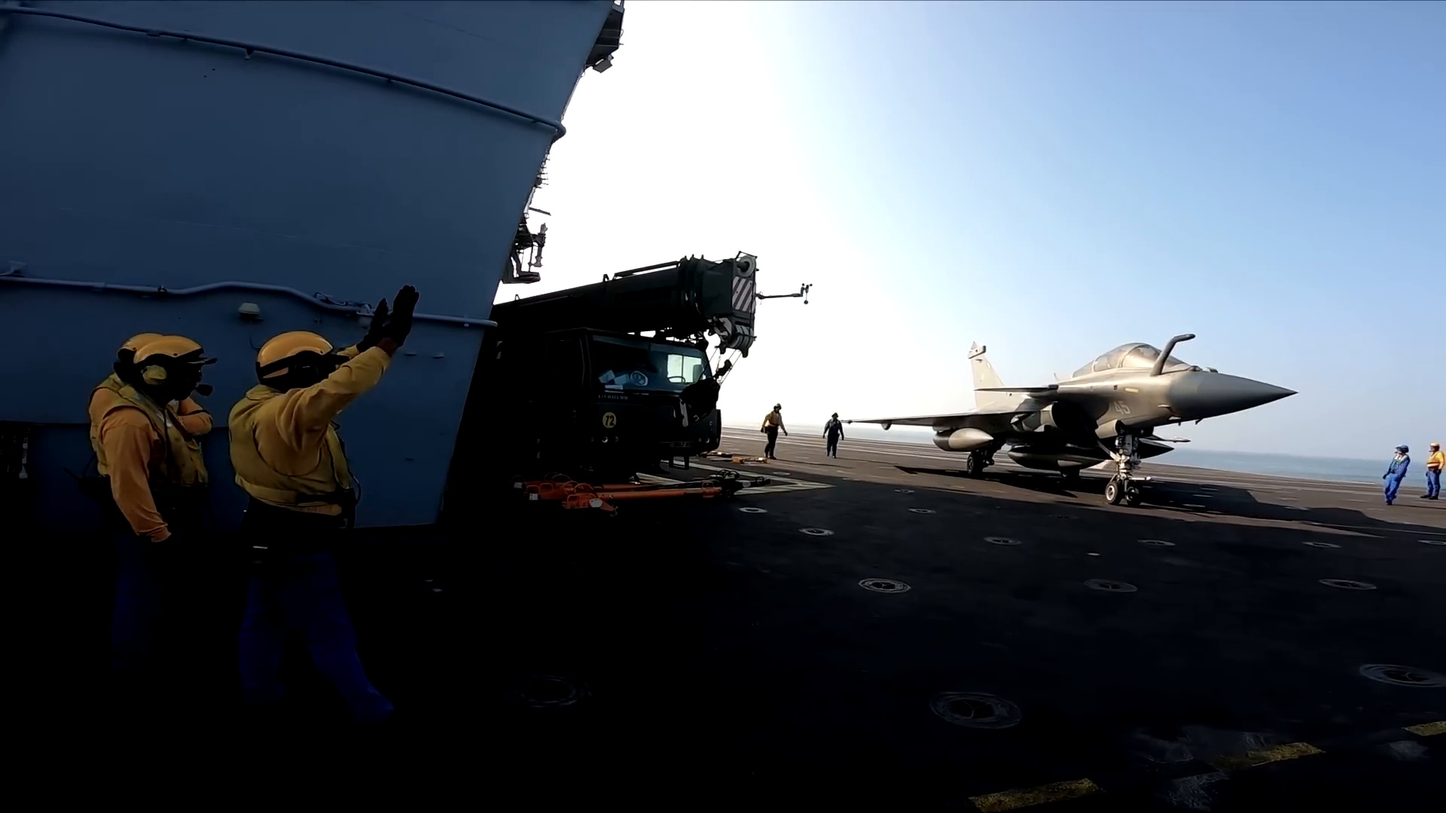Rafale: (834, 333, 1297, 502)
